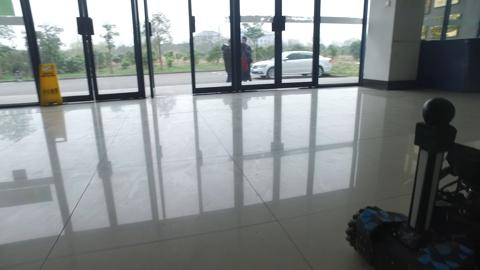chariot: (329, 81, 480, 270)
